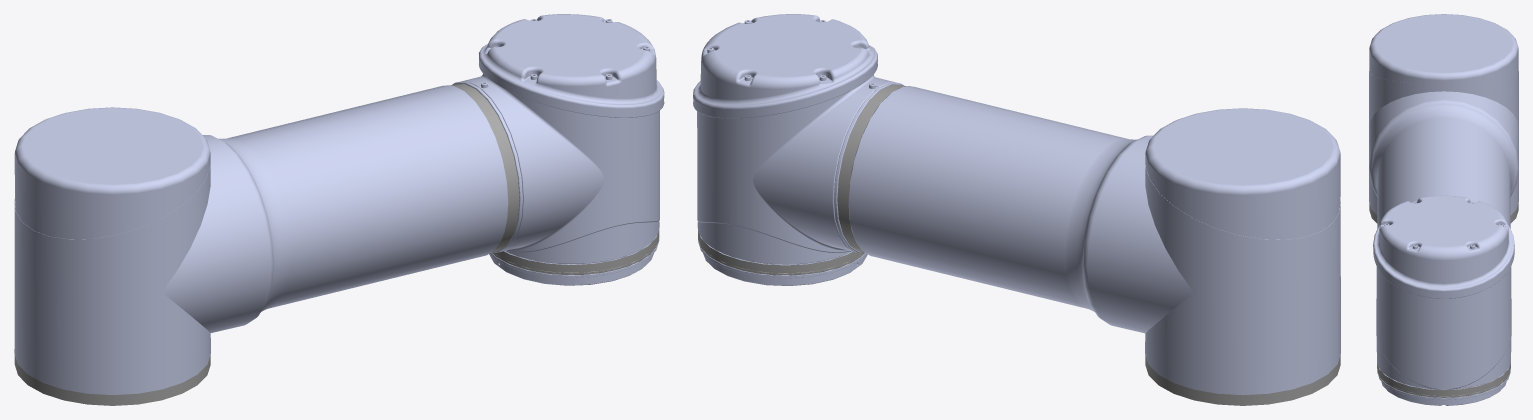
3 renders of one model, left to right at view 1: azimuth 30°, elevation 25°; view 2: azimuth 150°, elevation 25°; view 3: azimuth 270°, elevation 25°, orthographic. The views are drawn at different scales.
Visible parts, largest first — view 1: FBXASC195FBXASC148FBXASC194FBXASC178FBXASC194FBXASC189FBXASC; view 2: FBXASC195FBXASC148FBXASC194FBXASC178FBXASC194FBXASC189FBXASC; view 3: FBXASC195FBXASC148FBXASC194FBXASC178FBXASC194FBXASC189FBXASC.
Boxes of the visible parts, left/top/right/bottom form: FBXASC195FBXASC148FBXASC194FBXASC178FBXASC194FBXASC189FBXASC: left=14, top=14, right=664, bottom=405; FBXASC195FBXASC148FBXASC194FBXASC178FBXASC194FBXASC189FBXASC: left=693, top=14, right=1340, bottom=405; FBXASC195FBXASC148FBXASC194FBXASC178FBXASC194FBXASC189FBXASC: left=1369, top=14, right=1518, bottom=405.
Size of the model in its own units: 0.7485 by 0.204 by 0.25.
